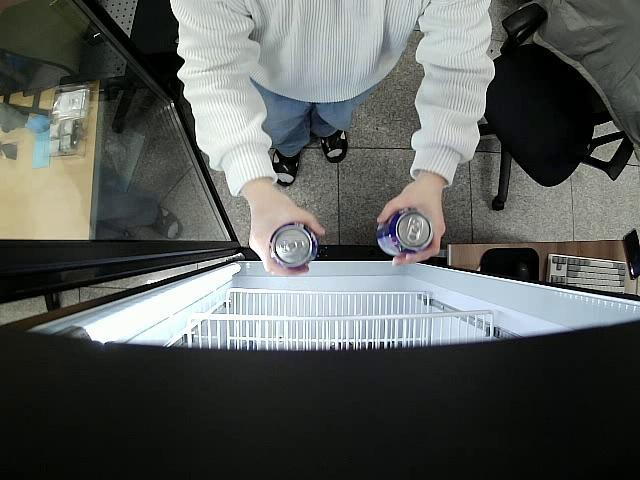14_welchsGrape: (378, 206, 433, 257), (268, 222, 321, 270)
